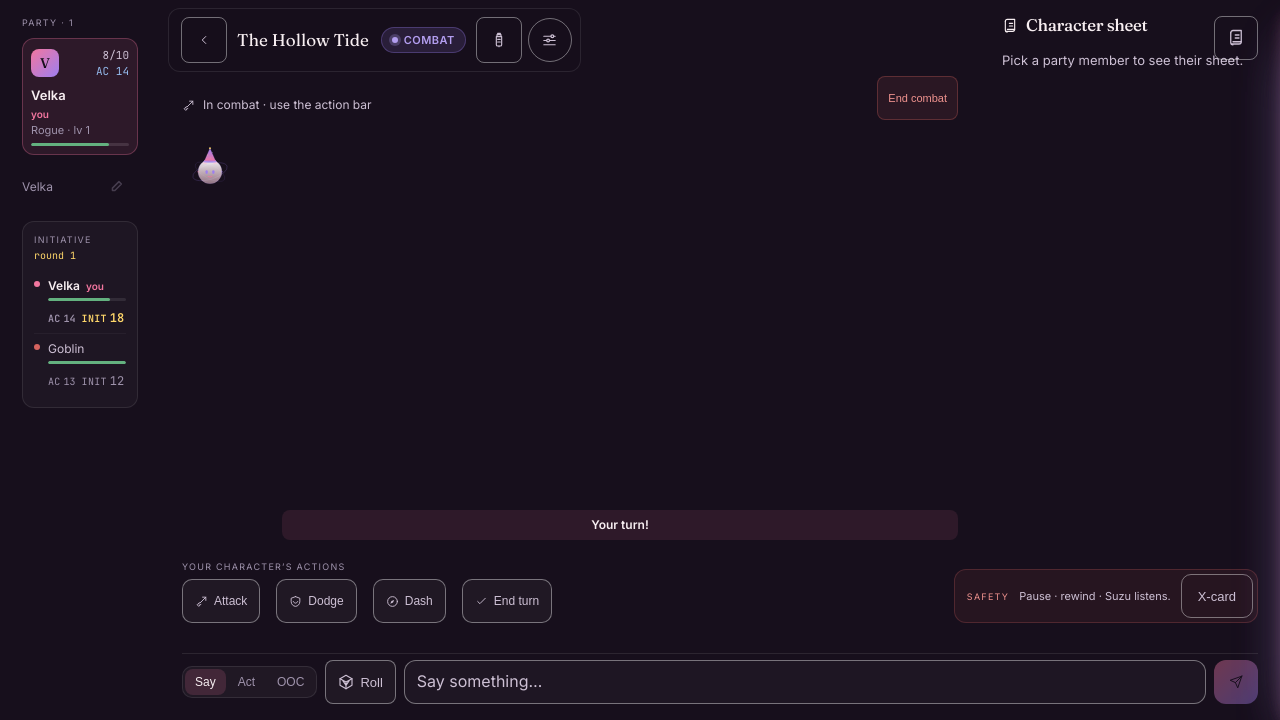
Test: B3-1 — outcome chooser › a non-null scene_advance in the endCombat response narrates the scene shift
Expected: the text "The Hollow Tide" is shown, [237,27,369,53]
Click the button "End combat" at [918, 98], box [877,76,958,120]
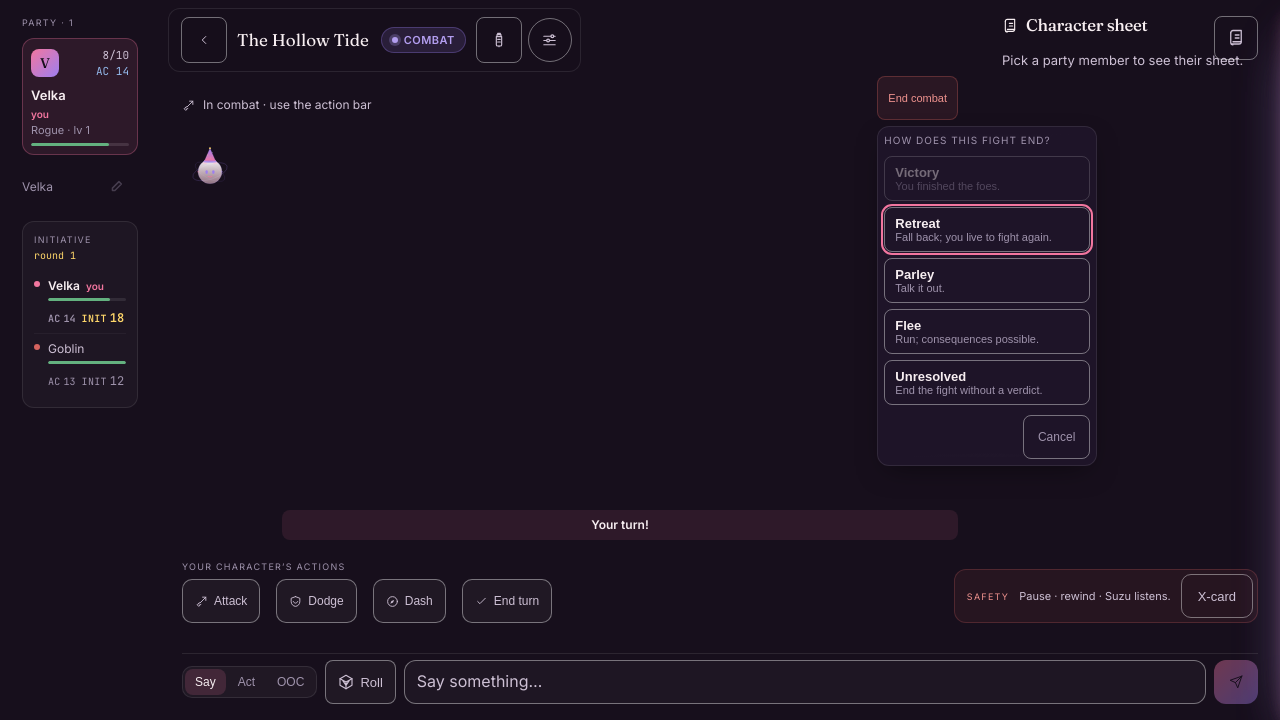
Click the button "Retreat Fall back; you live to fight again." at [987, 230], box [884,207,1090,252]
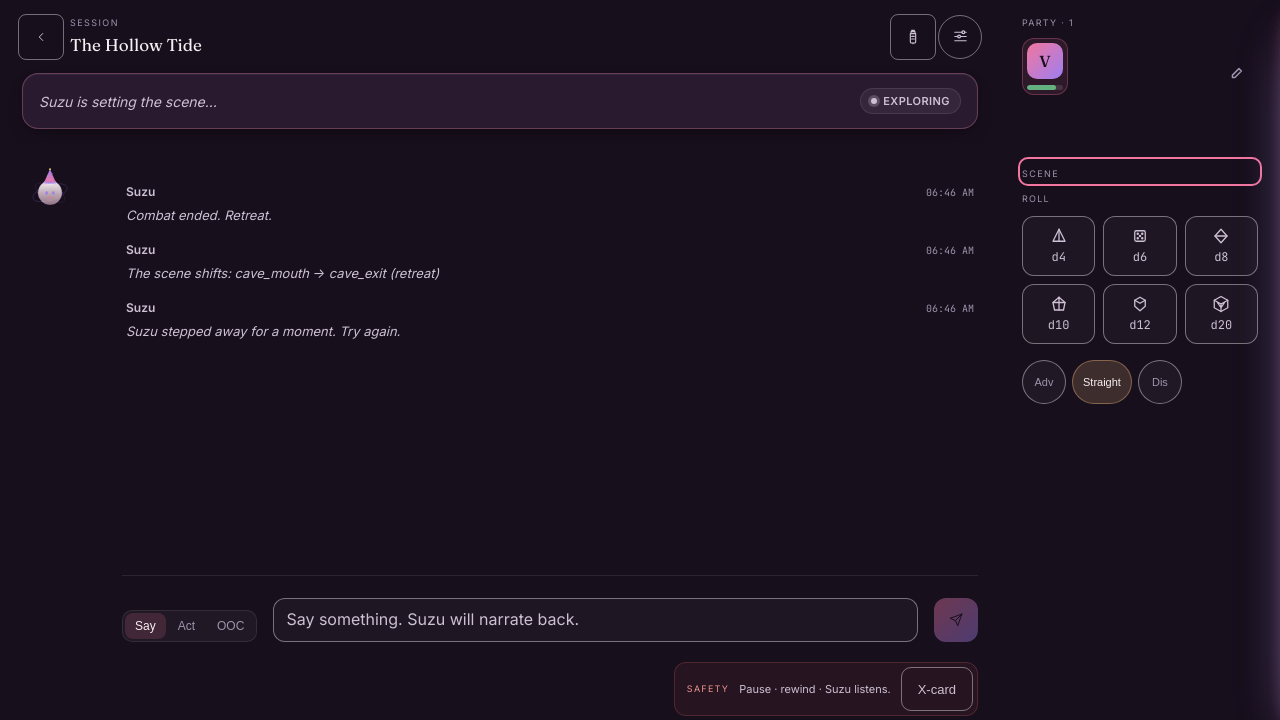
Expected: the text "The scene shifts: cave_mouth → cave_exit (retreat)" is shown, [126,265,439,281]
